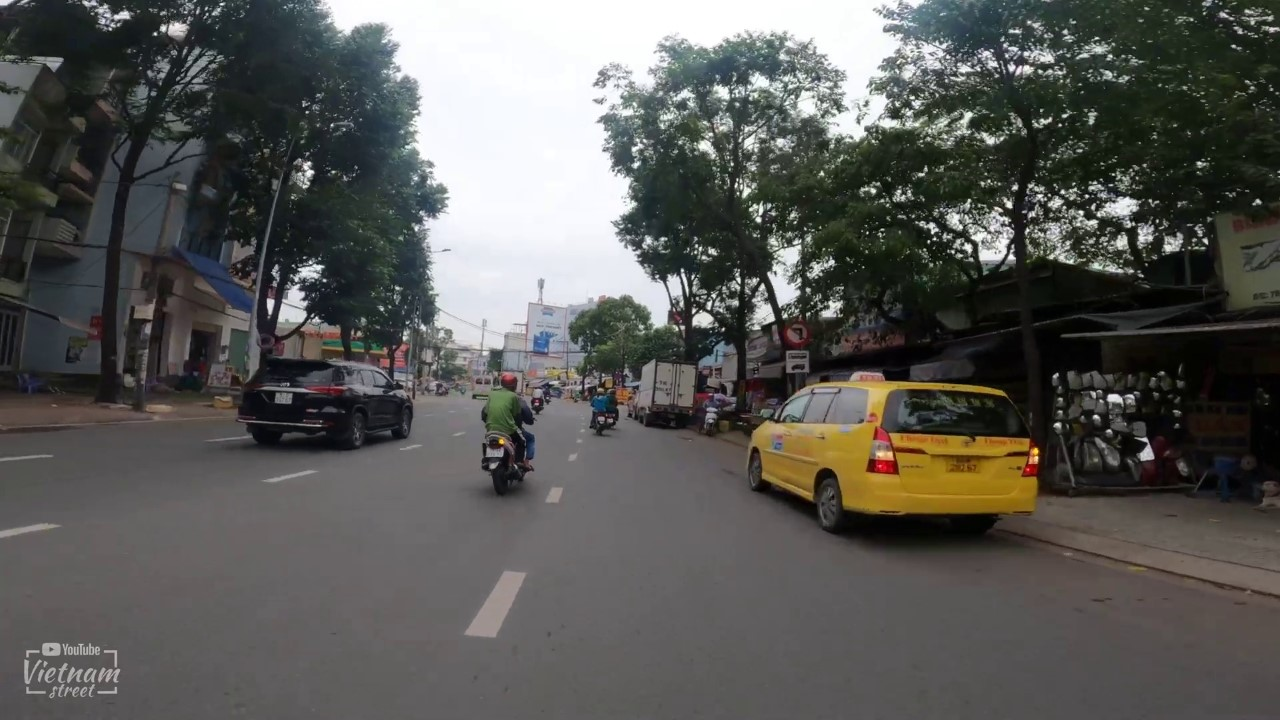cam_re_trai: (783, 320, 811, 347)
